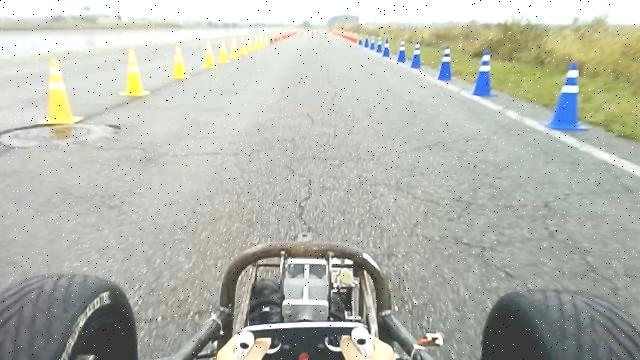blue cone: (542, 61, 591, 131), (472, 49, 498, 97), (437, 45, 453, 81), (411, 42, 422, 69), (396, 39, 407, 63), (382, 37, 391, 58)
yellow cone: (38, 57, 84, 125), (120, 48, 150, 97), (170, 43, 189, 79), (203, 40, 217, 68), (218, 40, 230, 63), (238, 37, 248, 56), (230, 38, 239, 58)
